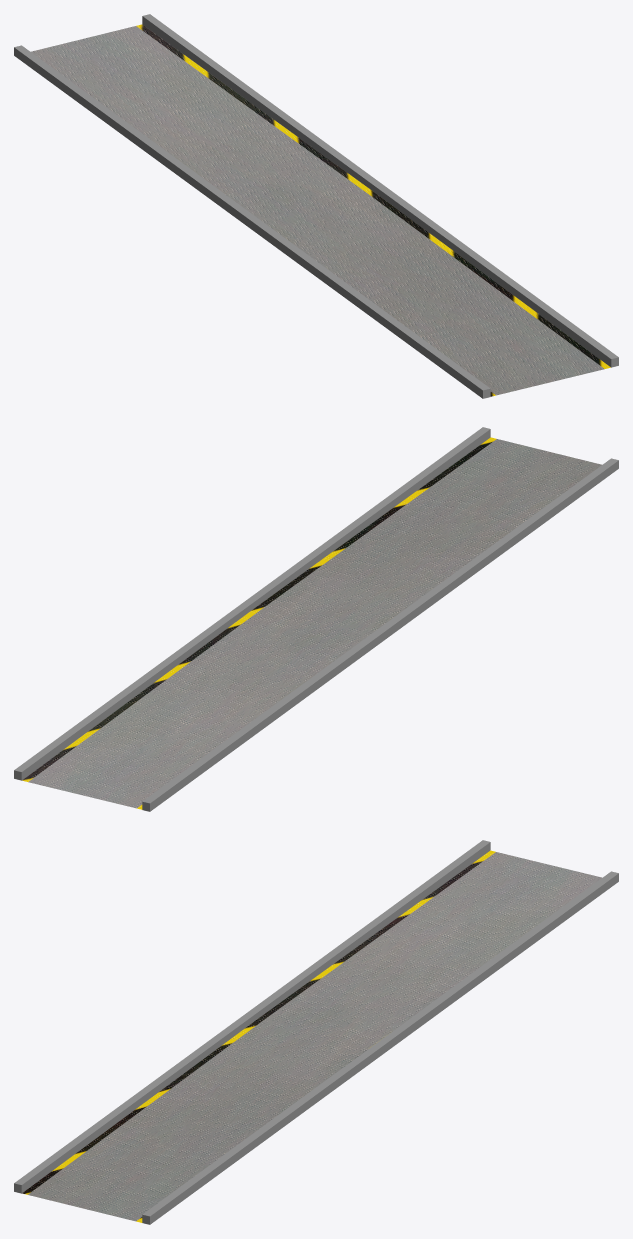
File: PisoLaboratorio.fbx
3 renders of one model, top to bottom at view 1: azimuth 30°, elevation 25°; view 2: azimuth 150°, elevation 25°; view 3: azimuth 330°, elevation 25°, orthographic.
Visible parts, largest first — view 1: SueloLaboratorio.001; view 2: SueloLaboratorio.001; view 3: SueloLaboratorio.001.
Part boxes in pixels (box(x1,y1,x2,y2)): SueloLaboratorio.001: box(14, 14, 618, 398); SueloLaboratorio.001: box(14, 427, 618, 811); SueloLaboratorio.001: box(14, 840, 618, 1224).
Bounding box in the file's own units: 1361 × 80.33 × 8127.
2 materials, 1 textured.
